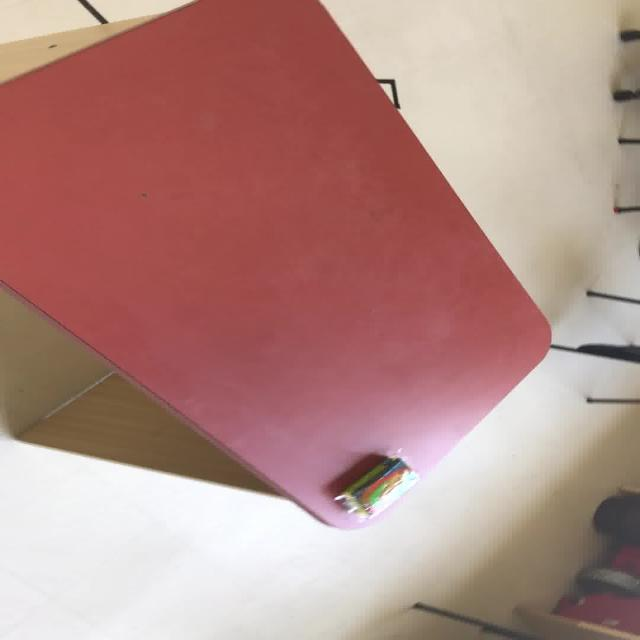sponge: (1, 0, 552, 529), (332, 449, 418, 518)
